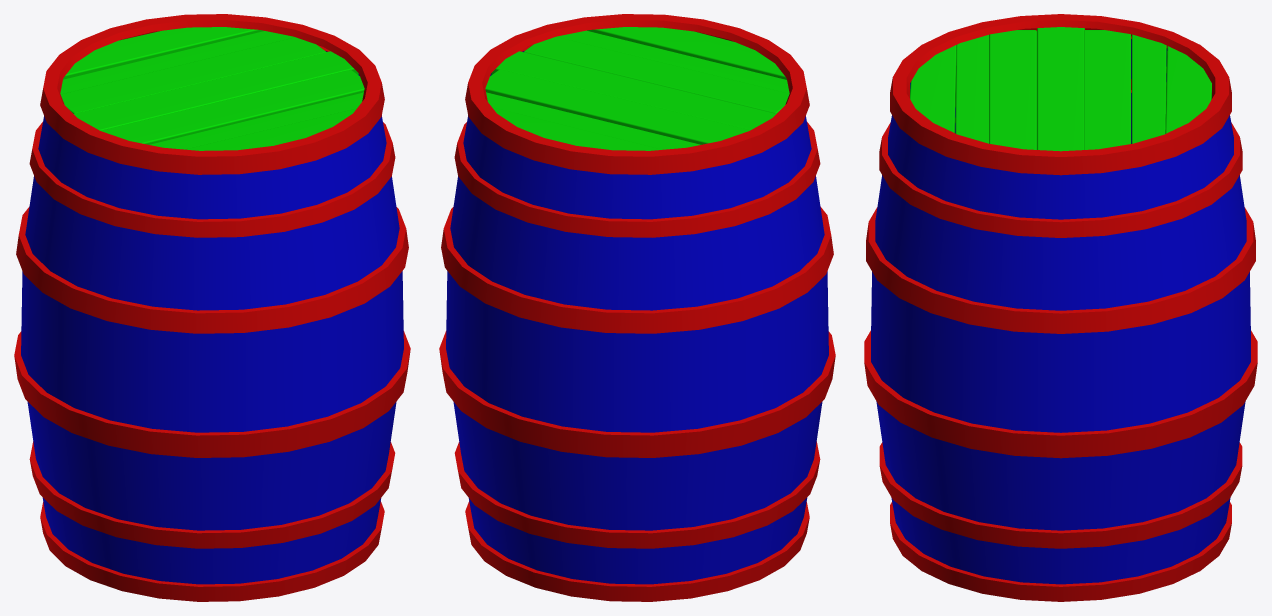
The model's file is Barrel.fbx.
3 renders of one model, left to right at view 1: azimuth 30°, elevation 25°; view 2: azimuth 150°, elevation 25°; view 3: azimuth 270°, elevation 25°, orthographic.
Parts seen in each view (by area): view 1: Barrel; view 2: Barrel; view 3: Barrel.
Boxes of the visible parts, <box> form: Barrel: <box>14,14,410,601</box>; Barrel: <box>439,14,835,601</box>; Barrel: <box>864,14,1257,601</box>.
Size of the model in its own units: 0.8563 by 1.06 by 0.8501.
